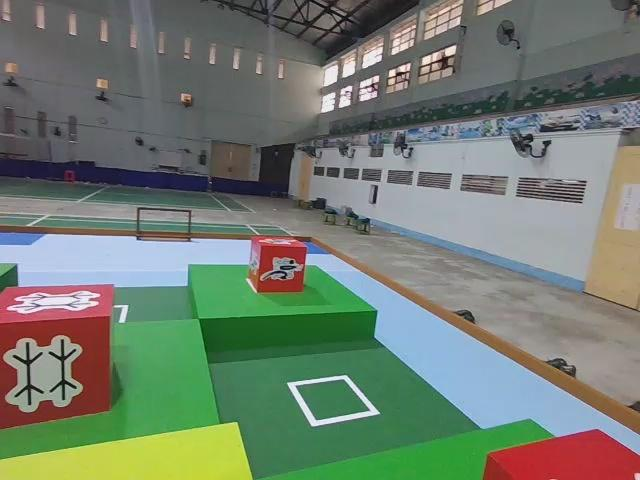R1: (247, 235, 306, 295)
R2 Real: (0, 280, 117, 433)
